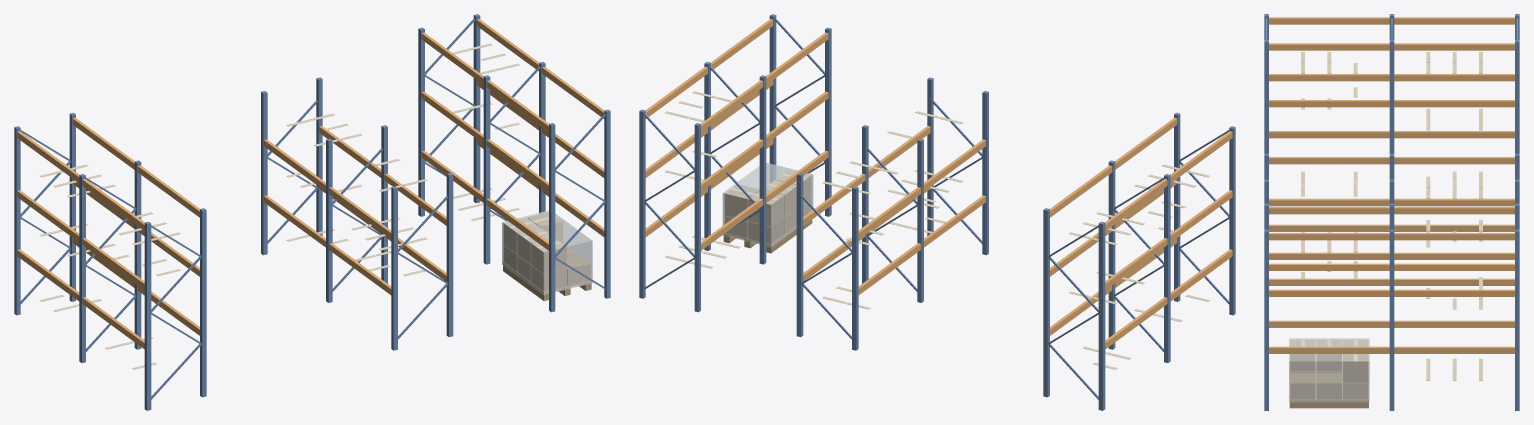
File: einrichtung_hochregal_buehne.glb
3 views of the same model, side by side, from view 1: azimuth 30°, elevation 25°; view 2: azimuth 150°, elevation 25°; view 3: azimuth 270°, elevation 25° (orthographic). The views are drawn at different scales.
Parts seen in each view (by area): view 1: einrichtung_hochregal_buehne; view 2: einrichtung_hochregal_buehne; view 3: einrichtung_hochregal_buehne.
Part boxes in pixels (x1,y1,x2,y2): einrichtung_hochregal_buehne: (14, 14, 610, 410); einrichtung_hochregal_buehne: (639, 14, 1235, 410); einrichtung_hochregal_buehne: (1264, 14, 1519, 410).
Size of the model in its own units: 7.8 by 3 by 3.87.
